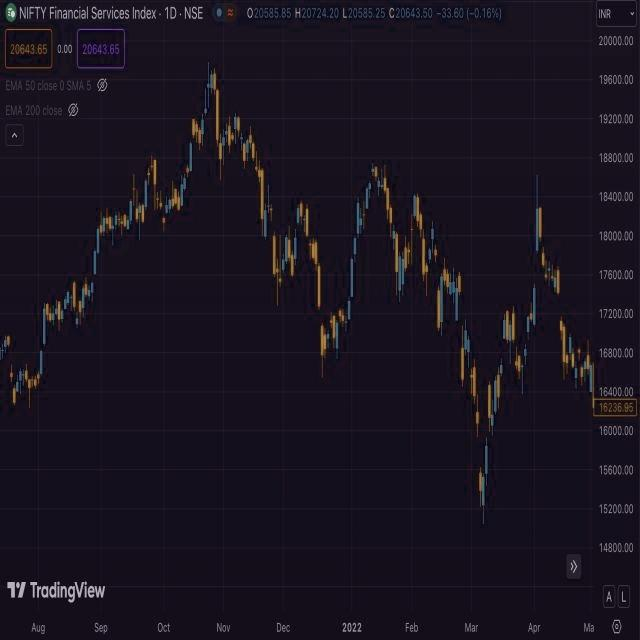Gap Down: (434, 249, 440, 328), (459, 279, 463, 379), (306, 210, 314, 259), (476, 413, 481, 490), (557, 274, 563, 330), (319, 268, 323, 352), (270, 208, 275, 273), (512, 315, 518, 365), (7, 338, 13, 378), (540, 209, 544, 265), (10, 373, 16, 405)
Gap Up: (533, 209, 538, 324), (39, 309, 45, 372), (409, 196, 415, 258), (486, 385, 490, 472), (294, 207, 299, 259), (500, 321, 505, 372), (91, 252, 97, 294), (190, 120, 194, 170), (524, 318, 529, 355)
